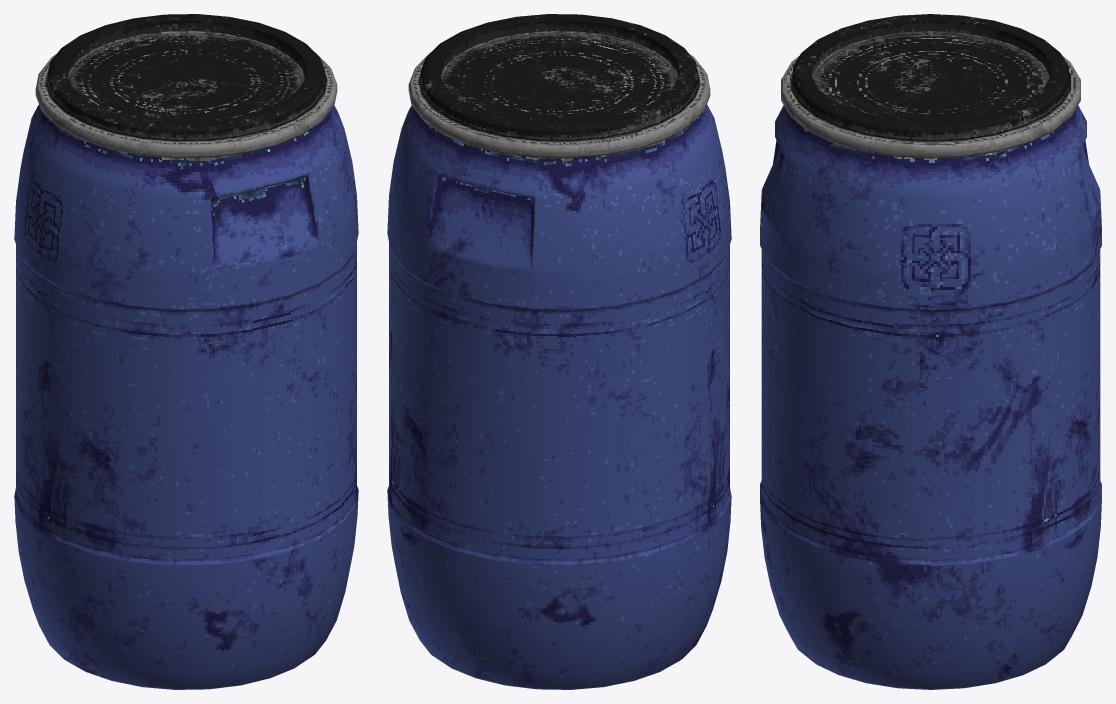
Rendered from Barrel_02.glb.
3 views of the same model, side by side, from view 1: azimuth 30°, elevation 25°; view 2: azimuth 150°, elevation 25°; view 3: azimuth 270°, elevation 25° (orthographic).
Visible parts, largest first — view 1: body; view 2: body; view 3: body.
Boxes of the visible parts, <box> form: body: <box>14,14,358,689</box>; body: <box>387,14,731,689</box>; body: <box>760,14,1101,689</box>.
Bounding box in the file's own units: 0.4882 × 0.88 × 0.4846.
Materials: 1 (1 with a texture image).
